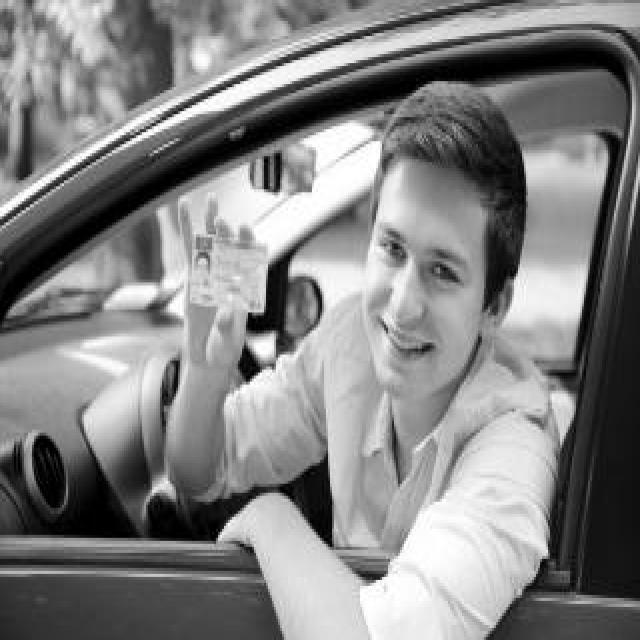Focused: (358, 145, 476, 400)
